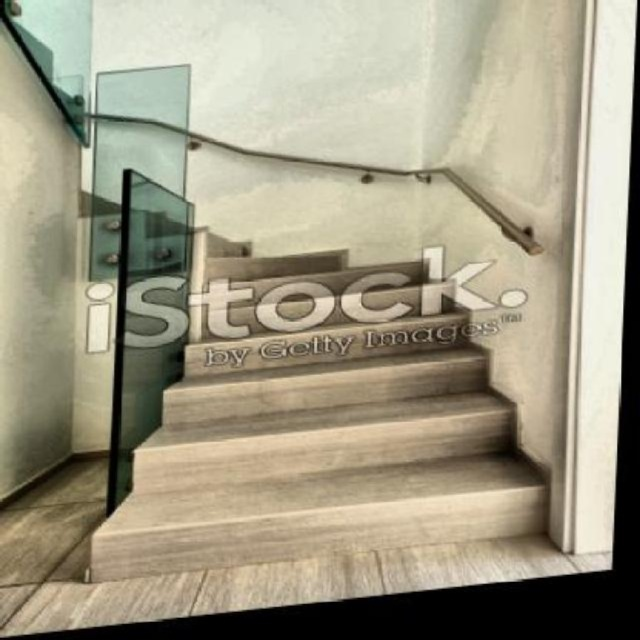stair: (115, 151, 575, 580)
